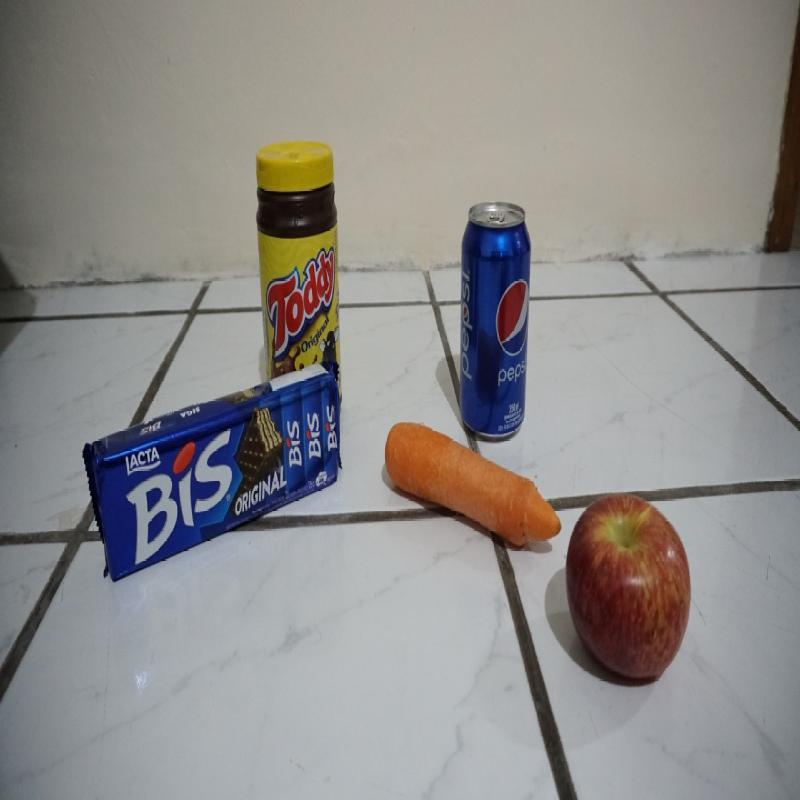Apple: (568, 486, 694, 682)
Carrot: (381, 421, 563, 550)
Chocolate Powder: (254, 142, 336, 354)
Soda can: (454, 200, 528, 418)
